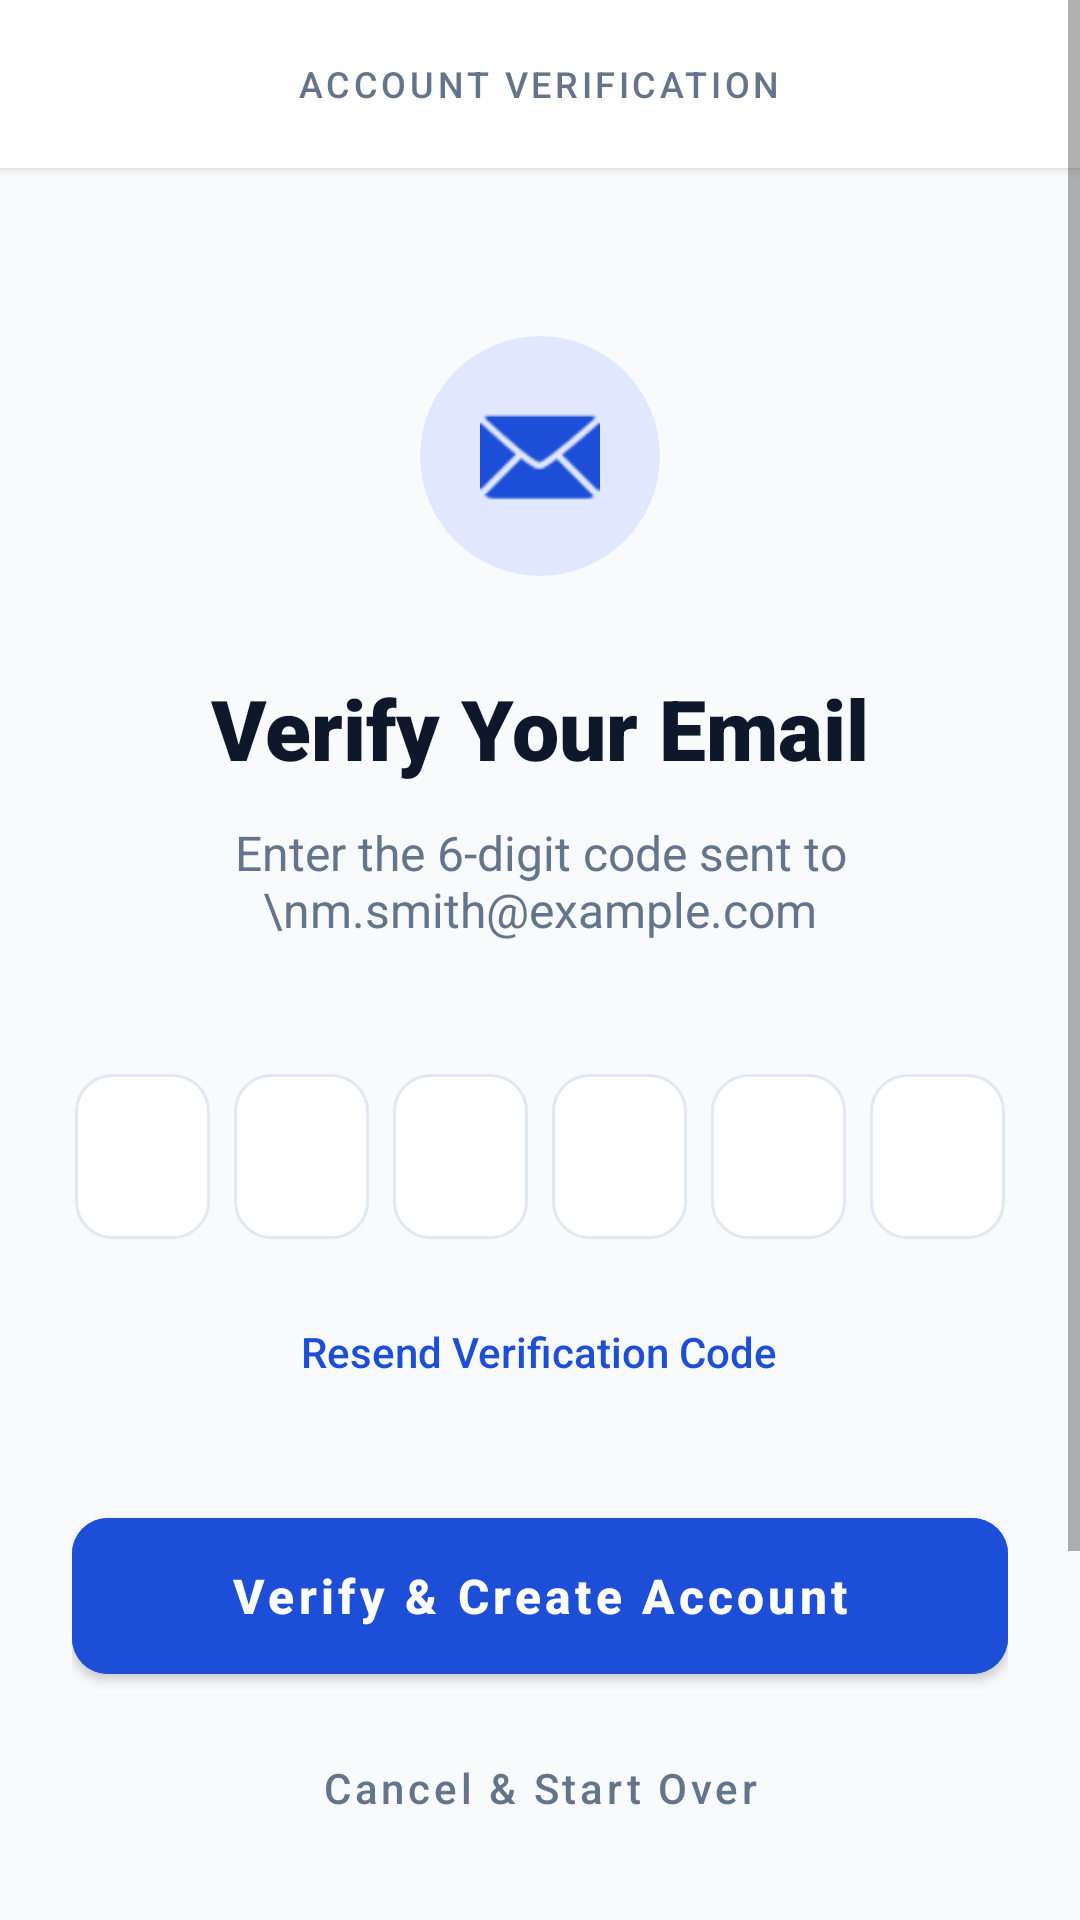

Named icons in this screenshot (1080 x 1920) and their centers, (x=x, y=y):
email: (x=540, y=457)
